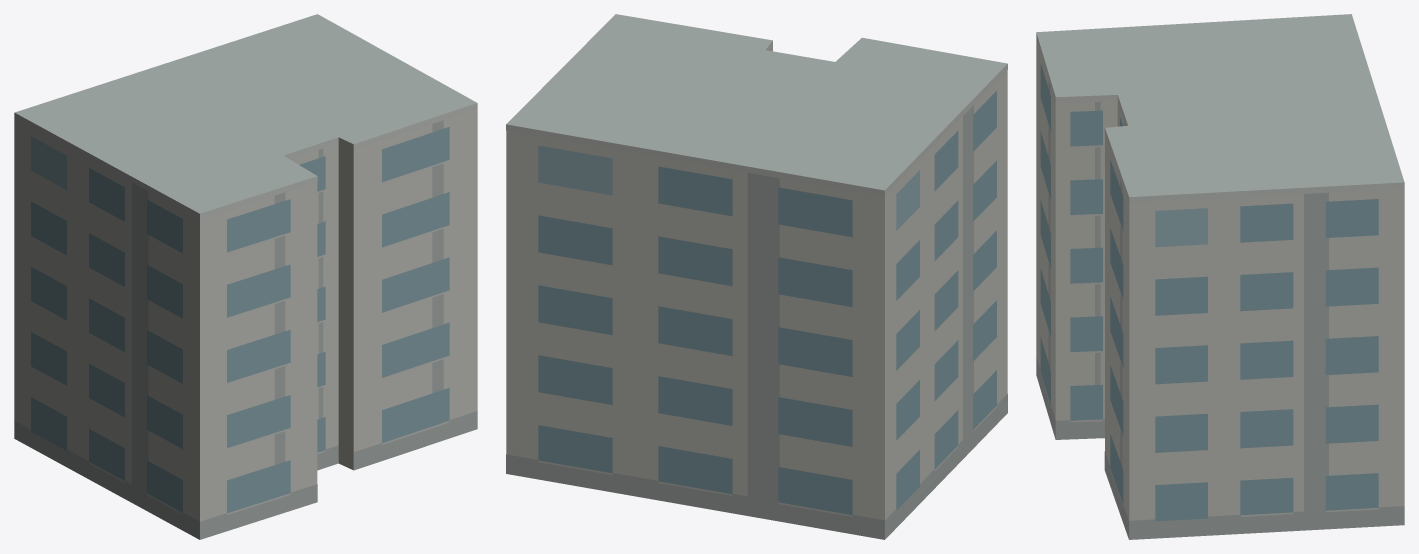
Rendered from survey-upis-32980510.glb.
3 renders of one model, left to right at view 1: azimuth 30°, elevation 25°; view 2: azimuth 150°, elevation 25°; view 3: azimuth 270°, elevation 25°, orthographic. The views are drawn at different scales.
Parts seen in each view (by area): view 1: survey-upis-32980510.tmp; view 2: survey-upis-32980510.tmp; view 3: survey-upis-32980510.tmp.
Part boxes in pixels (box(x1,y1,x2,y2)): survey-upis-32980510.tmp: box(14, 14, 477, 539); survey-upis-32980510.tmp: box(506, 14, 1007, 539); survey-upis-32980510.tmp: box(1036, 14, 1404, 539).
Size of the model in its own units: 15.37 by 13.4 by 13.06.
